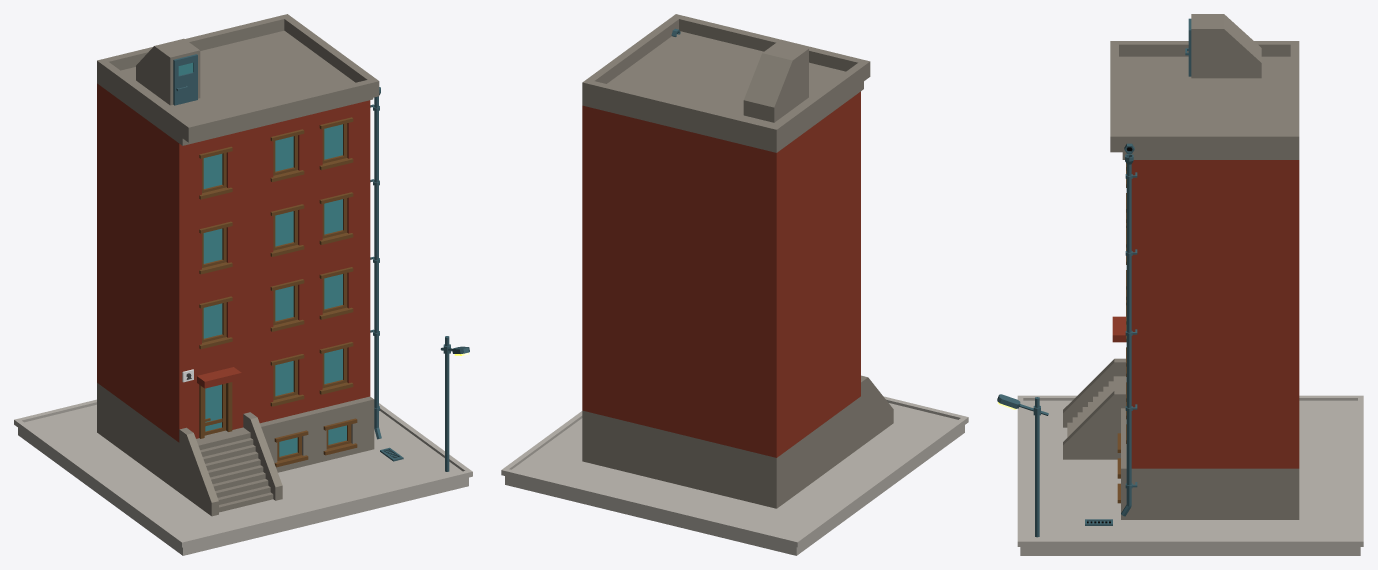
3 views of the same model, side by side, from view 1: azimuth 30°, elevation 25°; view 2: azimuth 150°, elevation 25°; view 3: azimuth 270°, elevation 25° (orthographic). The views are drawn at different scales.
Parts seen in each view (by area): view 1: Box15819, Plane090, Object298_concret2_0, Box15823, Box15822, StraightStair010, Plane092, Rectangle021, Box15820, Cylinder1709, Object293_brown_0, Box15821_metal_0 (+3 smaller); view 2: Box15819, Object298_concret2_0, Plane090, Box15822, Rectangle021, Box15820, StraightStair010; view 3: Box15819, Plane090, Object298_concret2_0, Box15822, Rectangle021, StraightStair010, Box15820, Cylinder1709, street_light_02_metal_0, Box15823.
Part boxes in pixels (bbox=[...]): Box15819: bbox=[97, 83, 370, 442]; Plane090: bbox=[18, 404, 468, 555]; Object298_concret2_0: bbox=[97, 14, 379, 145]; Box15823: bbox=[199, 117, 357, 467]; Box15822: bbox=[97, 383, 374, 492]; StraightStair010: bbox=[179, 412, 282, 516]; Plane092: bbox=[203, 124, 342, 395]; Rectangle021: bbox=[14, 399, 472, 547]; Box15820: bbox=[136, 38, 200, 105]; Cylinder1709: bbox=[374, 87, 381, 439]; Object293_brown_0: bbox=[199, 382, 232, 438]; Box15821_metal_0: bbox=[173, 54, 197, 105]; Box15819: bbox=[582, 91, 860, 457]; Object298_concret2_0: bbox=[582, 14, 870, 152]; Plane090: bbox=[505, 403, 964, 555]; Box15822: bbox=[582, 396, 860, 508]; Rectangle021: bbox=[501, 396, 968, 547]; Box15820: bbox=[743, 41, 808, 122]; StraightStair010: bbox=[861, 375, 893, 446]; Box15819: bbox=[1112, 160, 1299, 468]; Plane090: bbox=[1020, 400, 1360, 555]; Object298_concret2_0: bbox=[1110, 41, 1299, 159]; Box15822: bbox=[1121, 408, 1299, 519]; Rectangle021: bbox=[1017, 395, 1363, 546]; StraightStair010: bbox=[1063, 358, 1126, 459]; Box15820: bbox=[1191, 14, 1261, 78]; Cylinder1709: bbox=[1121, 154, 1133, 516]; street_light_02_metal_0: bbox=[997, 394, 1048, 537]; Box15823: bbox=[1117, 163, 1126, 503].
Bounding box in the file's own units: 12.2 × 16.86 × 12.91.
